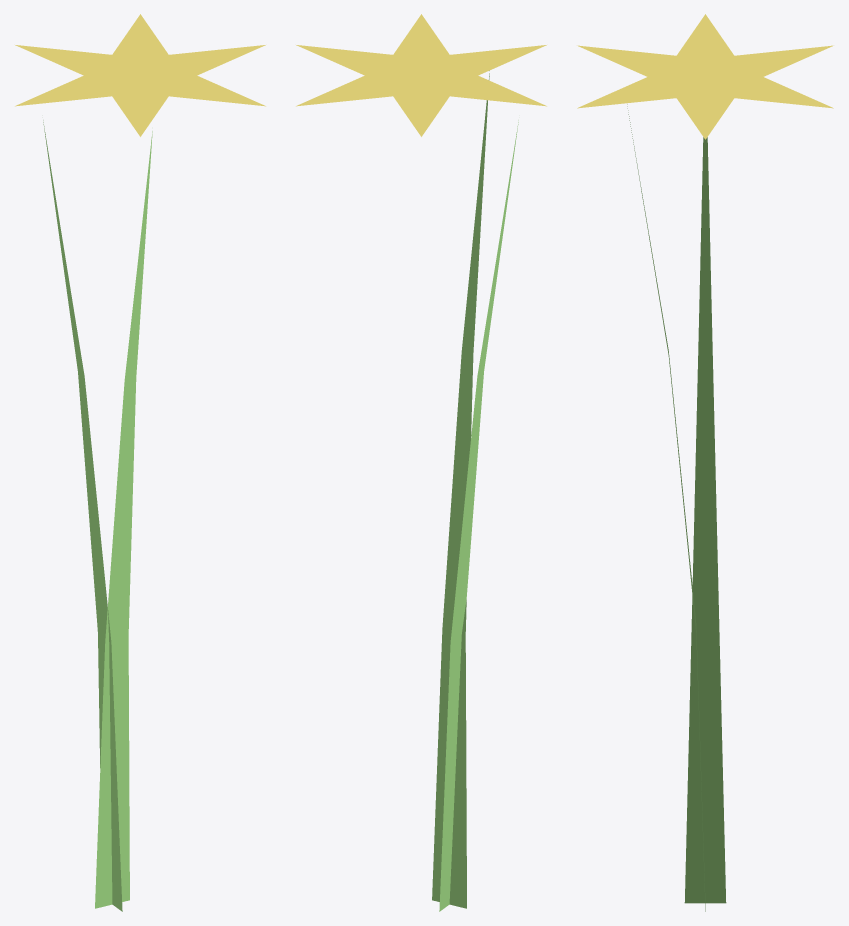
File: flower.gltf
The picture shows the model from 3 angles, left to right: view 1: azimuth 30°, elevation 25°; view 2: azimuth 150°, elevation 25°; view 3: azimuth 270°, elevation 25°; orthographic projection. The views are drawn at different scales.
Parts seen in each view (by area): view 1: Flower; view 2: Flower; view 3: Flower.
Boxes of the visible parts, box(x1,y1,x2,y2) form: Flower: box(15, 14, 265, 911); Flower: box(296, 14, 546, 911); Flower: box(577, 14, 833, 911).
Bounding box in the file's own units: 0.18 × 0.56 × 0.1559.
